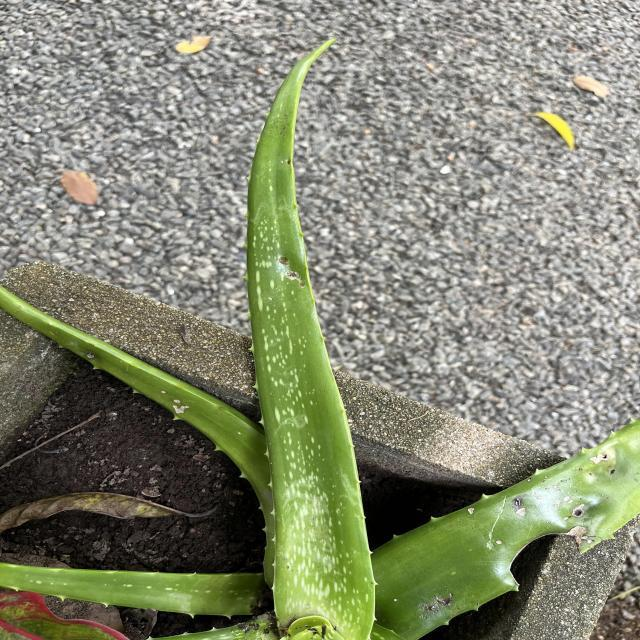Aloe vera: (238, 30, 380, 638)
